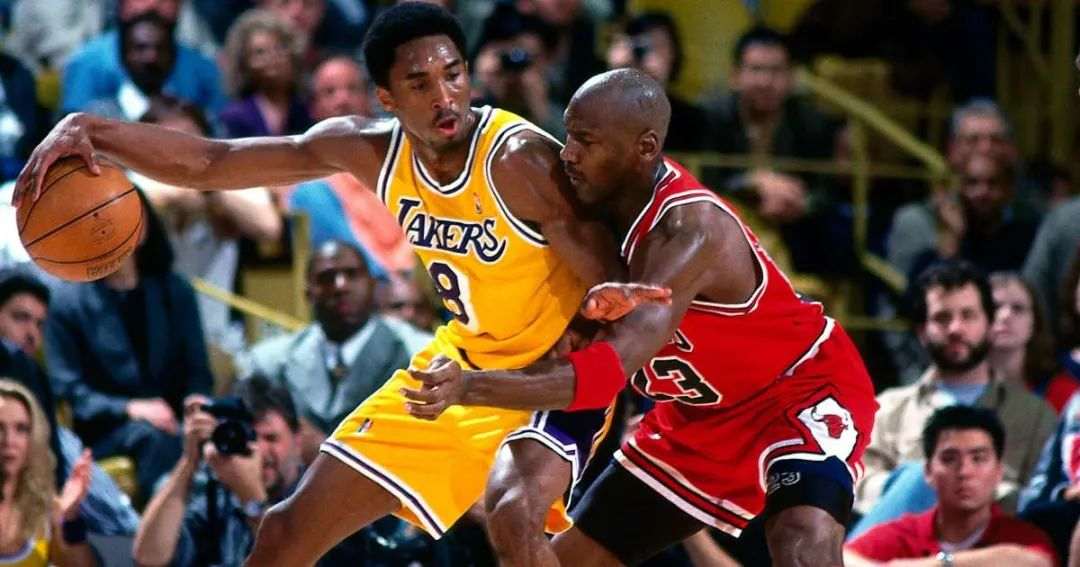ball: (16, 154, 143, 283)
